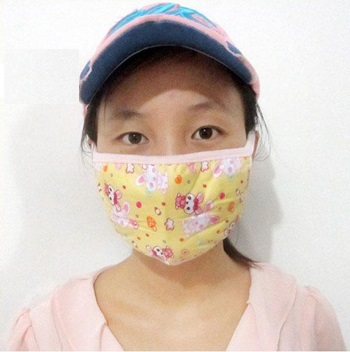face_mask: (97, 57, 249, 263)
